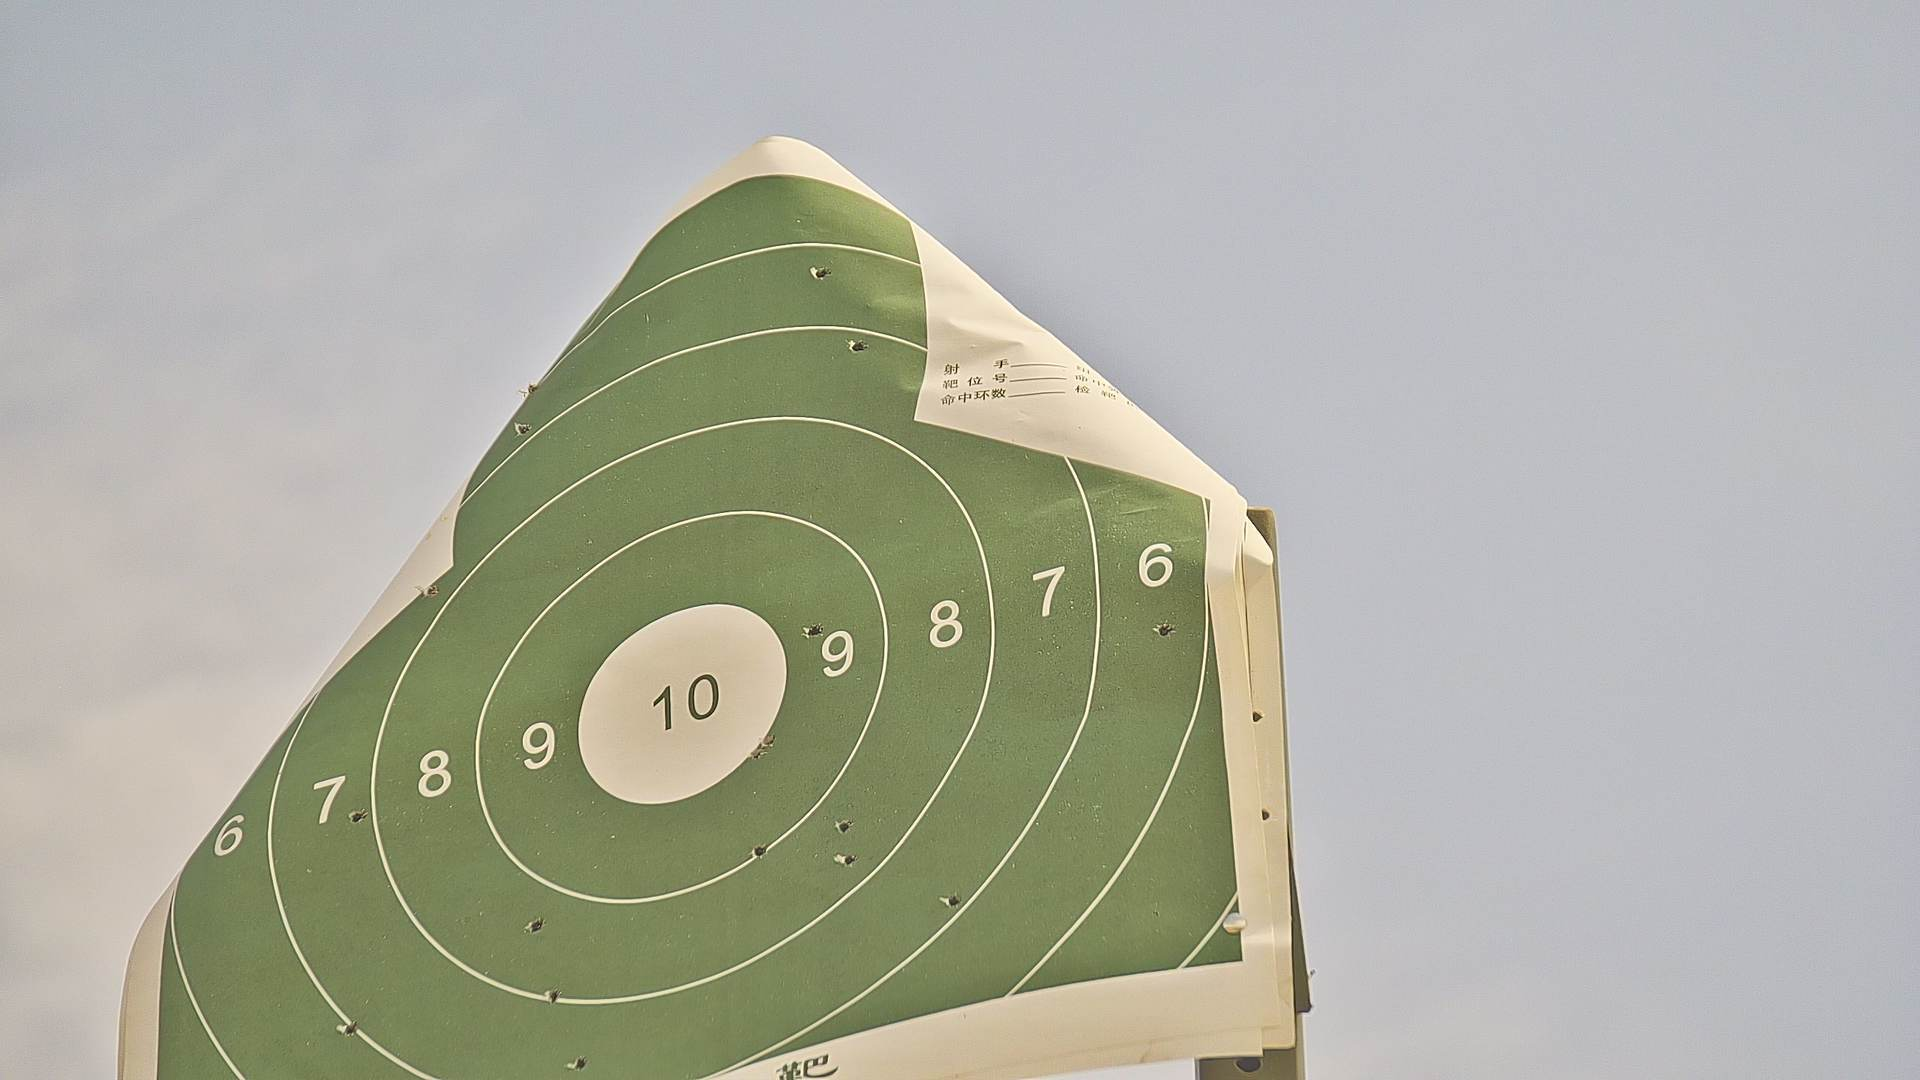hole: (1156, 621, 1172, 638), (836, 819, 852, 835), (752, 843, 767, 858), (806, 622, 823, 637), (761, 731, 775, 746), (349, 808, 365, 823), (343, 1019, 357, 1035), (851, 340, 866, 353), (839, 852, 855, 865), (570, 1056, 585, 1069), (814, 266, 828, 280), (750, 746, 764, 760), (529, 918, 541, 932), (945, 894, 961, 905), (547, 989, 559, 1002), (426, 584, 436, 597), (516, 425, 530, 434)
kernel: (673, 702, 680, 705)
target: (156, 175, 1246, 1080)
ten: (574, 603, 799, 808)
